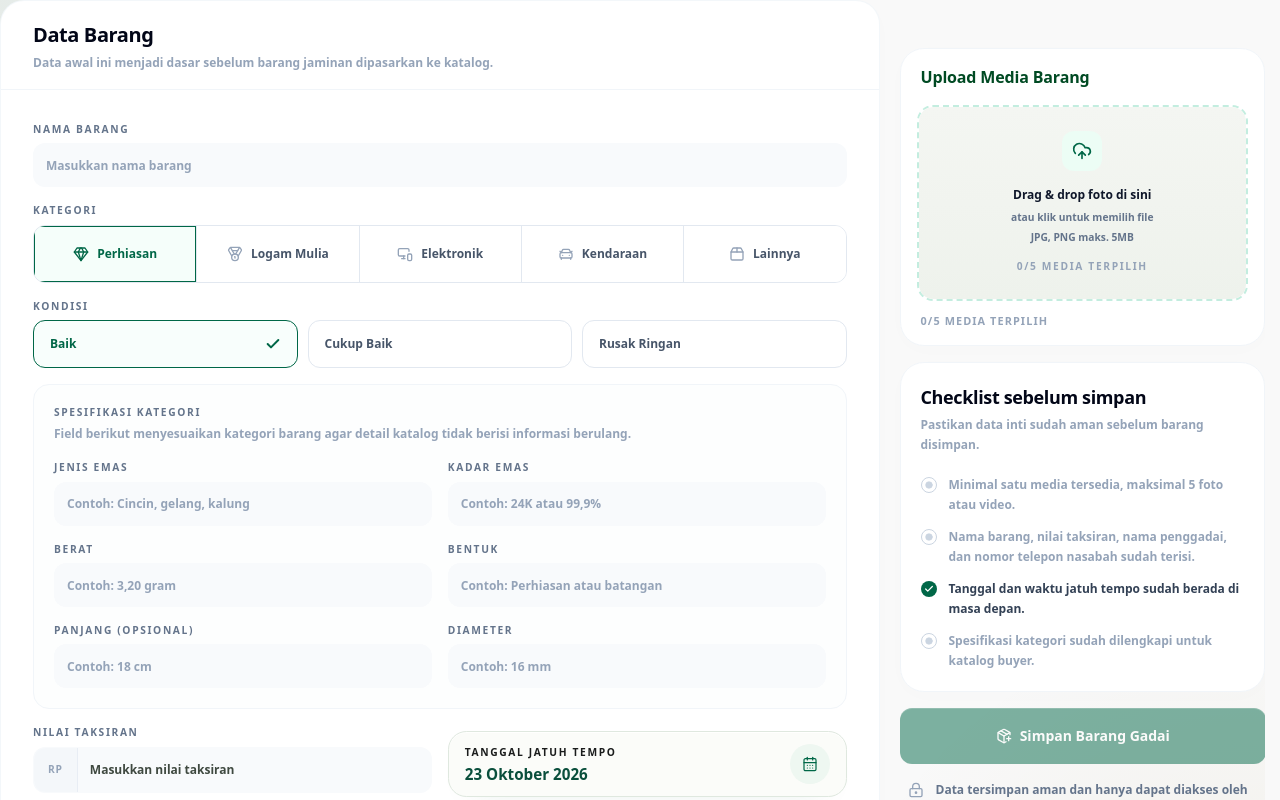
Test: AdminInventoryCreateForm › shows category-specific specification fields while creating barang gadai
expect the field labelled "Jenis Emas" is shown: met, box left=54, top=482, right=432, bottom=526
expect the field labelled "Kadar Emas" is shown: met, box left=448, top=482, right=826, bottom=526
Click the radio button labelled "Logam Mulia": (277, 254) left=196, top=226, right=359, bottom=282
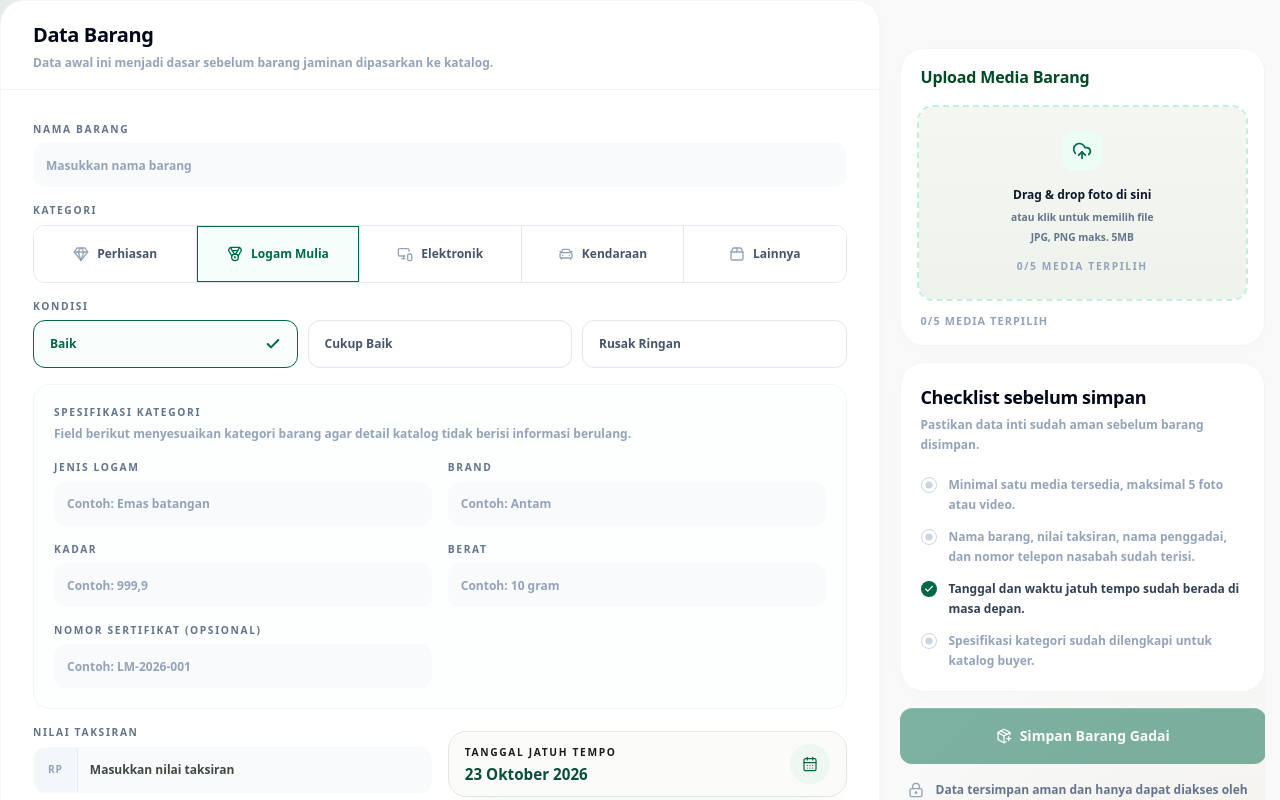
expect the field labelled "Nomor Sertifikat (Opsional)" is shown: met, box left=54, top=644, right=432, bottom=688
expect the text "Nomor Sertifikat (Opsional)" is shown: met, box left=54, top=623, right=262, bottom=637
Click the radio button labelled "Elektronik": (440, 254) left=359, top=226, right=521, bottom=282
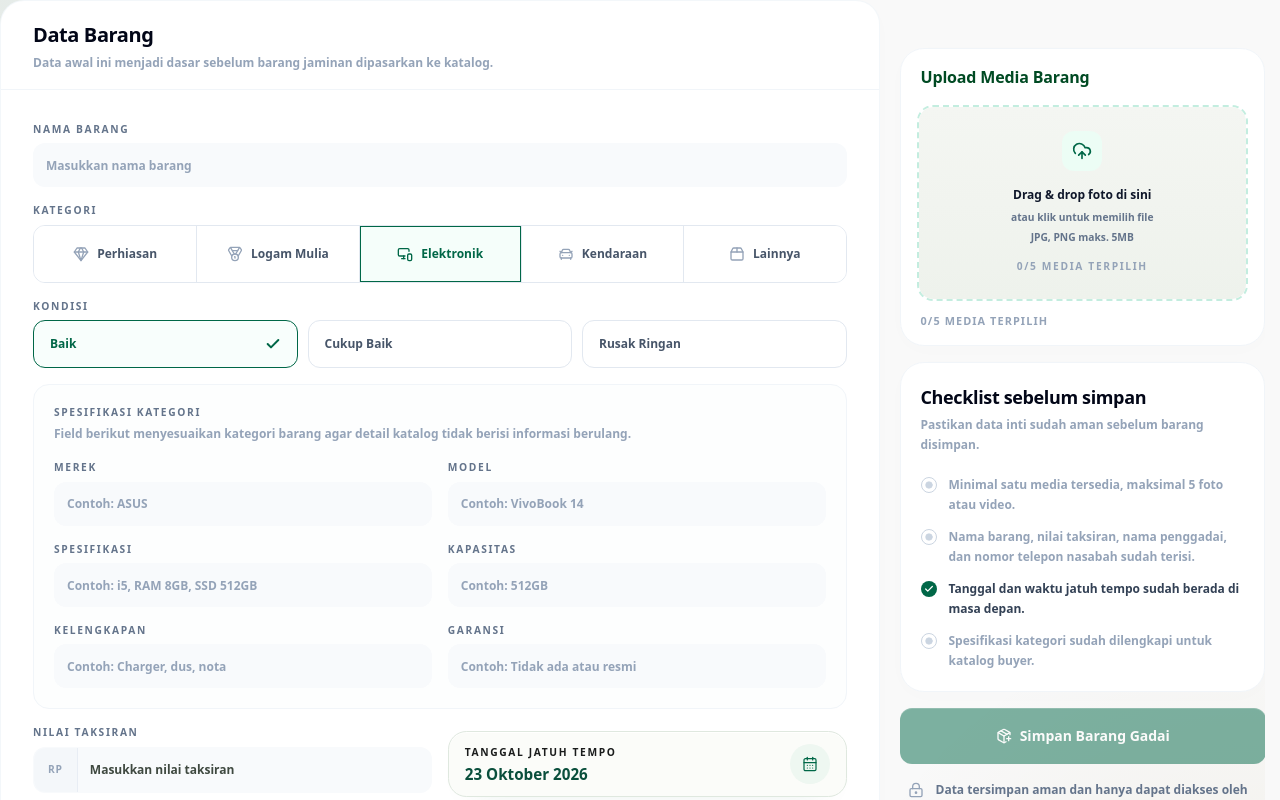
expect the field labelled "Merek" is shown: met, box left=54, top=482, right=432, bottom=526
expect the field labelled "Model" is shown: met, box left=448, top=482, right=826, bottom=526
expect the field labelled "Kelengkapan" is shown: met, box left=54, top=644, right=432, bottom=688
